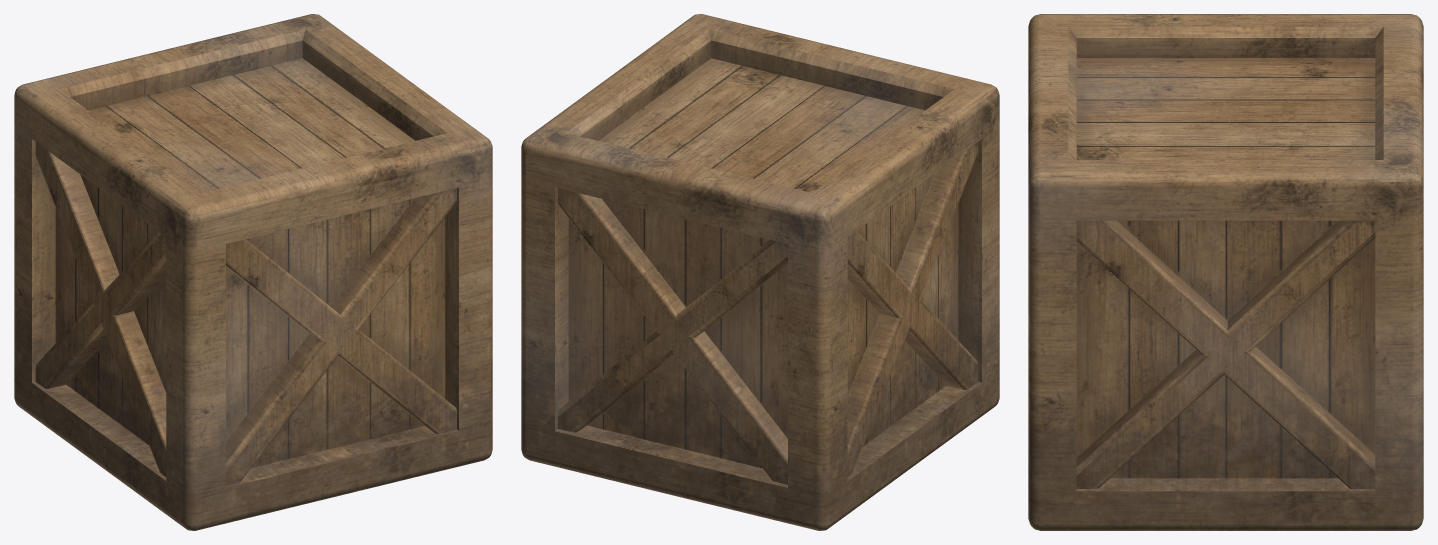
The model's file is Caja.fbx.
3 renders of one model, left to right at view 1: azimuth 30°, elevation 25°; view 2: azimuth 150°, elevation 25°; view 3: azimuth 270°, elevation 25°, orthographic. The views are drawn at different scales.
Visible parts, largest first — view 1: Wooden Box / chest; view 2: Wooden Box / chest; view 3: Wooden Box / chest.
Part boxes in pixels (x1,y1,x2,y2): Wooden Box / chest: (14,14,492,530); Wooden Box / chest: (521,14,999,530); Wooden Box / chest: (1028,14,1423,530).
Bounding box in the file's own units: 63.83 × 63.83 × 63.83.
1 material, 1 textured.
